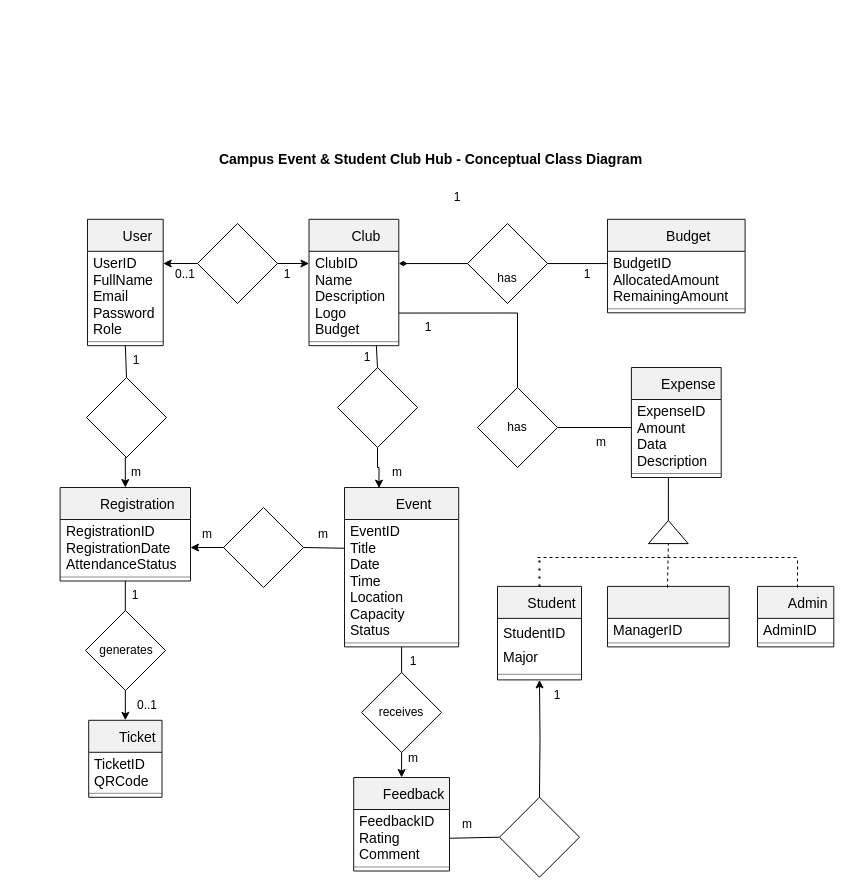
The diagram is 851 pixels wide and 895 high, and some of its shapes have lost their labels. The shapes that lost their labels are listed below. From the top down, each one's box as (x1, y1, x2, y2) in pixels, then its label:
(196, 222, 278, 304): manages
(86, 376, 166, 458): registration for
(336, 366, 418, 448): organizes
(222, 506, 304, 588): for
(606, 585, 729, 647): ClubManager
(498, 796, 580, 877): Writes
